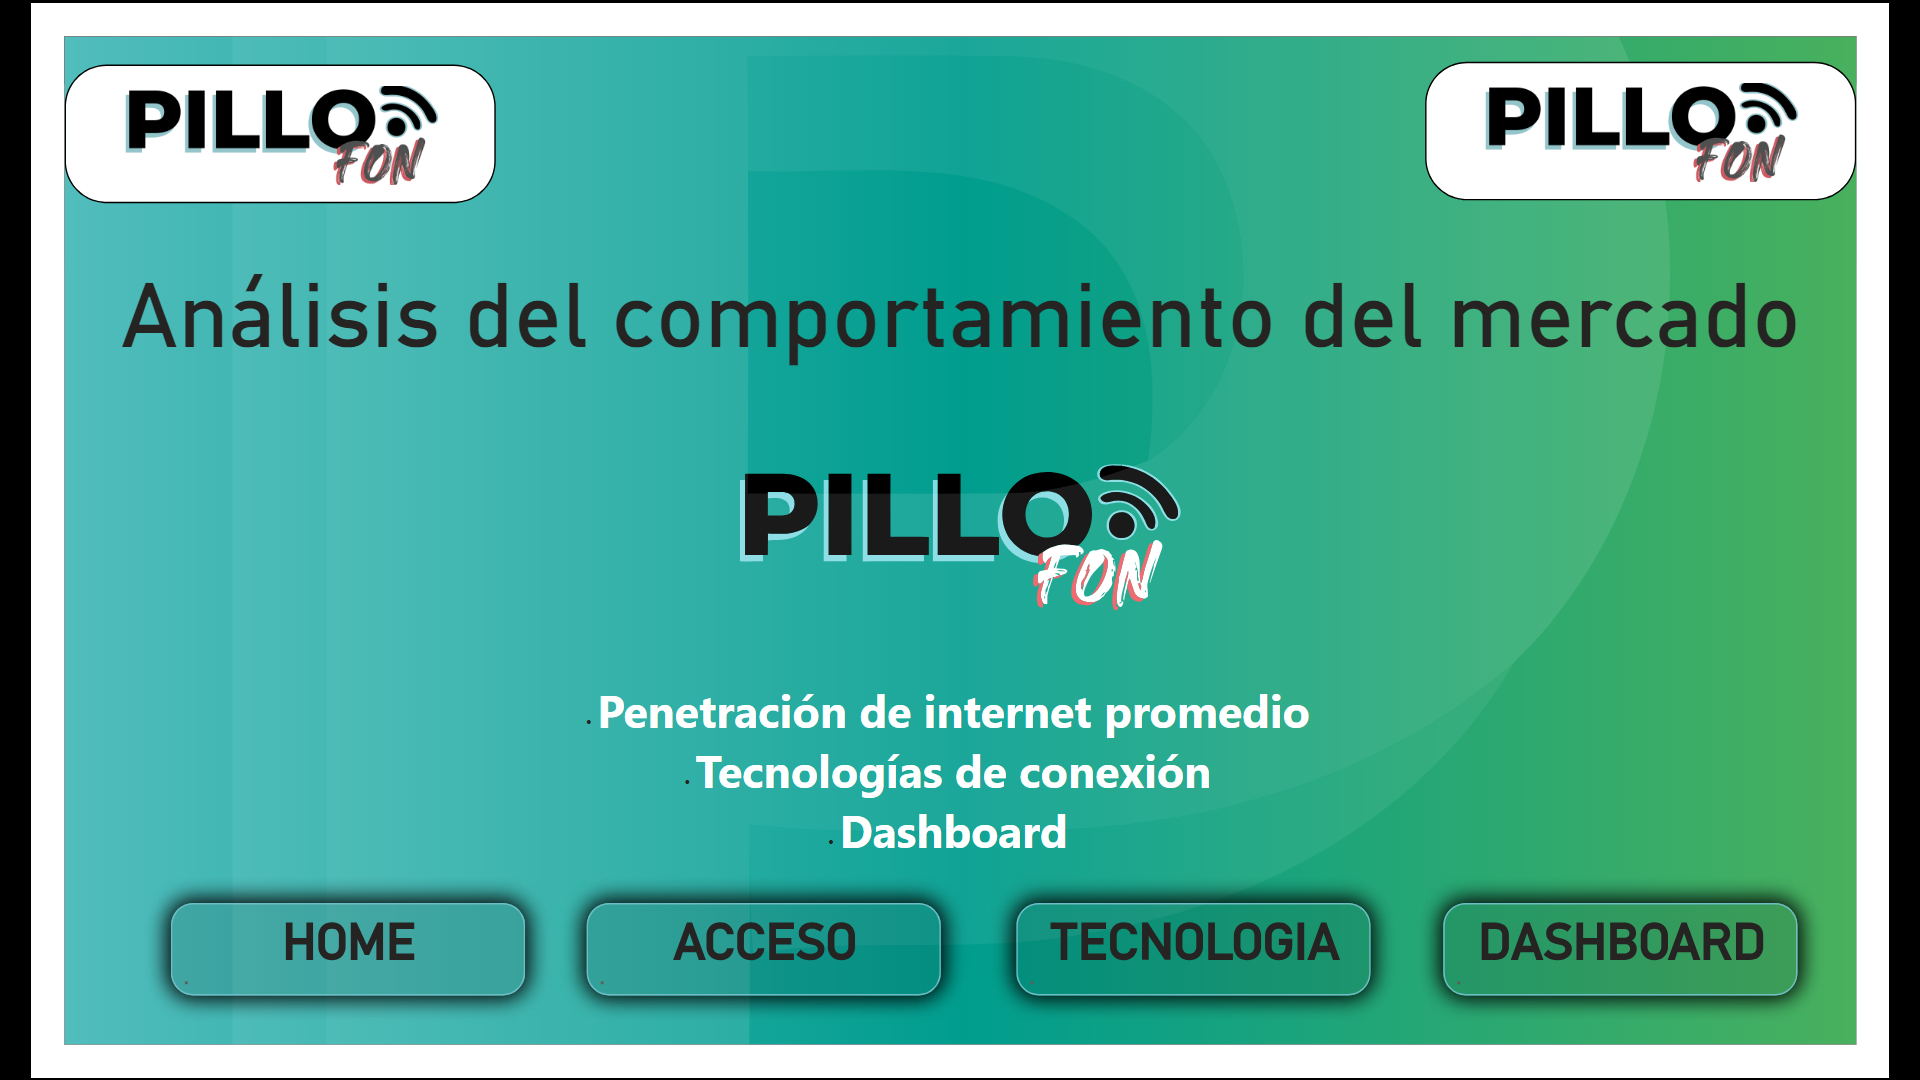

The dashboard page shown, as its layout file describes it:
{"tool":"powerbi","page":{"name":"Página 1","canvas":[1280,720],"ordinal":0},"visuals":[{"type":"textbox","box":[350.8,453.5,550.1,156.5],"z":0},{"type":"image","box":[971.8,18.3,308,99],"z":1000},{"type":"image","box":[0,19.6,308,99],"z":2000},{"type":"textbox","box":[0,156.5,1279.9,121],"z":3000},{"type":"actionButton","title":"TECNOLOGIA","box":[679.7,618.5,253,66],"z":4000},{"type":"actionButton","title":"DASHBOARD","box":[985.3,618.5,253,66],"z":5000},{"type":"actionButton","title":"HOME","box":[75.8,618.5,253,66],"z":6000},{"type":"actionButton","title":"ACCESO","box":[372.8,618.5,253,66],"z":7000}]}

Visuals, with their boxes in screenshot pixels (x1, y1, x2, y2), scaled from the page's 1280x720 canvas onto the 1920x1080 screenshot:
textbox: 526/680/1351/915
image: 1458/27/1919/176
image: 0/29/462/178
textbox: 0/235/1919/416
"TECNOLOGIA" actionButton: 1020/928/1399/1027
"DASHBOARD" actionButton: 1478/928/1857/1027
"HOME" actionButton: 114/928/493/1027
"ACCESO" actionButton: 559/928/939/1027
